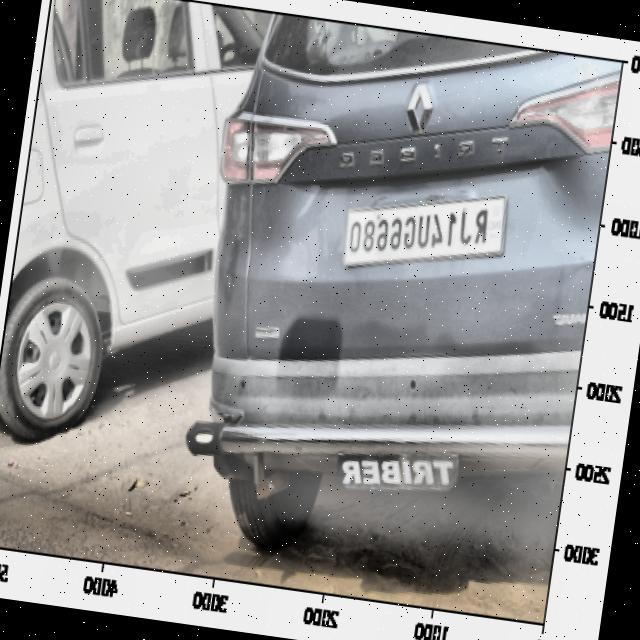license_plate: (340, 184, 495, 278)
